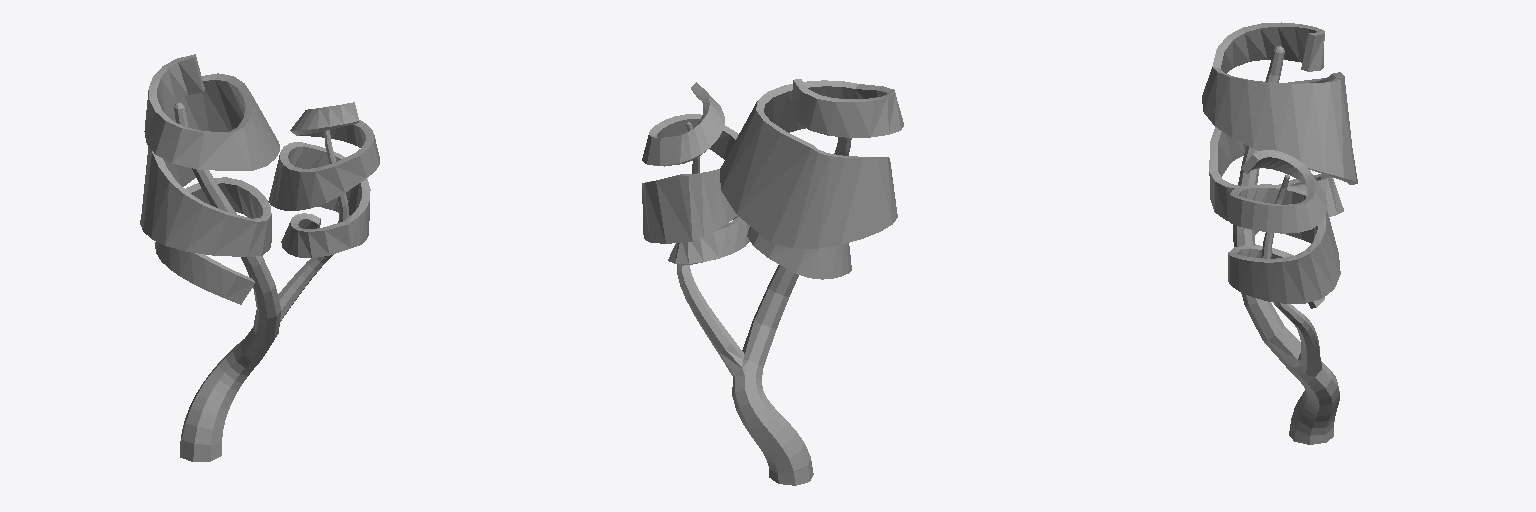
File: Tree_Spiral_2_CUBezierCurve.obj
3 views of the same model, side by side, from view 1: azimuth 30°, elevation 25°; view 2: azimuth 150°, elevation 25°; view 3: azimuth 270°, elevation 25° (orthographic).
Visible parts, largest first — view 1: Tree_Spiral_2_CUBezierCurve.010; view 2: Tree_Spiral_2_CUBezierCurve.010; view 3: Tree_Spiral_2_CUBezierCurve.010.
Boxes of the visible parts, x1,y1,x2,y2 form: Tree_Spiral_2_CUBezierCurve.010: [140, 54, 379, 461]; Tree_Spiral_2_CUBezierCurve.010: [642, 79, 903, 485]; Tree_Spiral_2_CUBezierCurve.010: [1202, 22, 1357, 444].
Bounding box in the file's own units: 3.8 × 6.19 × 2.2.